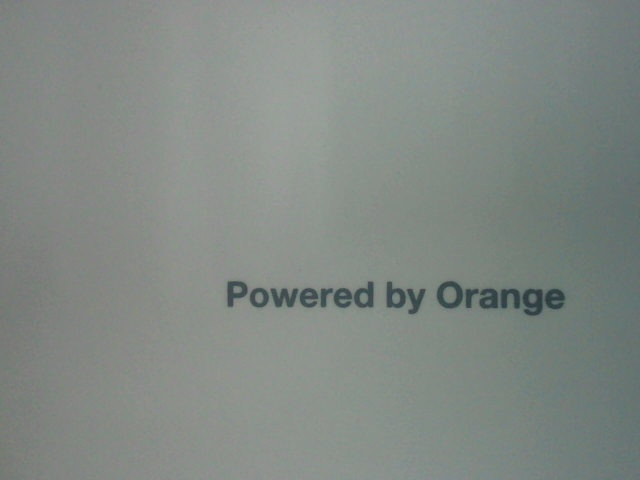AS_PowerByOrange: (211, 274, 570, 330)
